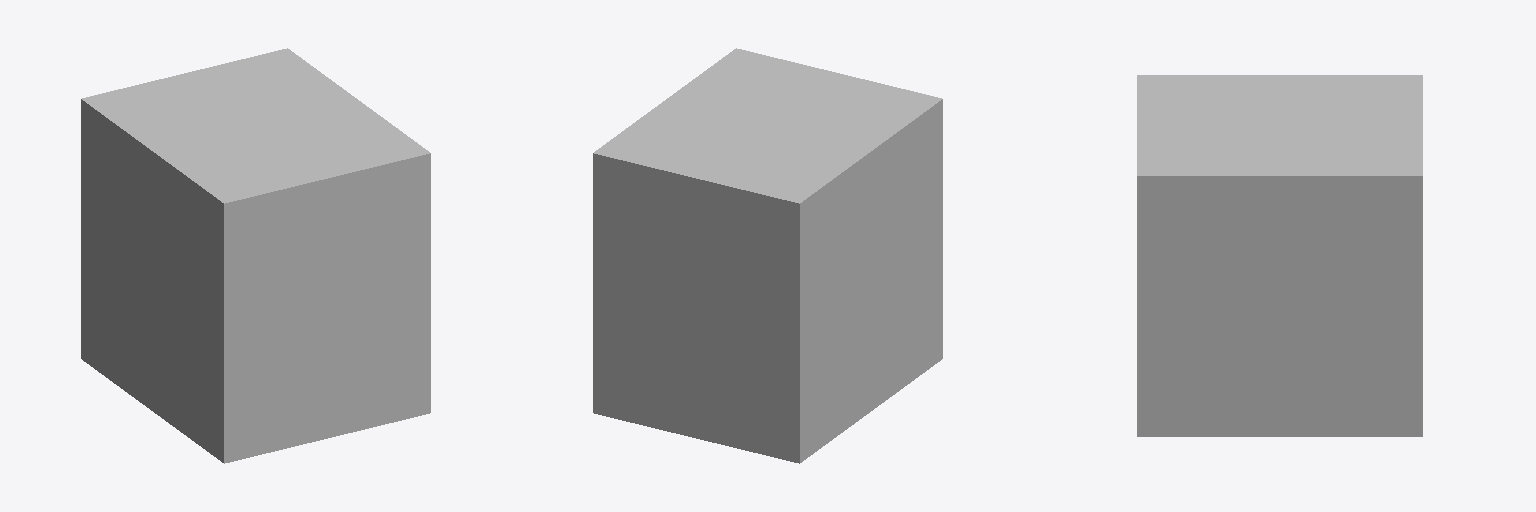
The model's file is box_obstacle3.obj.
3 renders of one model, left to right at view 1: azimuth 30°, elevation 25°; view 2: azimuth 150°, elevation 25°; view 3: azimuth 270°, elevation 25°, orthographic.
Visible parts, largest first — view 1: box_obstacle; view 2: box_obstacle; view 3: box_obstacle.
Boxes of the visible parts, <box> form: box_obstacle: <box>81,48,430,463</box>; box_obstacle: <box>593,48,942,463</box>; box_obstacle: <box>1137,75,1422,436</box>.
Bounding box in the file's own units: 0.2 × 0.24 × 0.24.